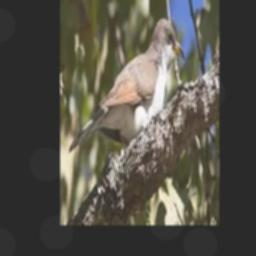Cuckoo: (70, 18, 185, 154)
